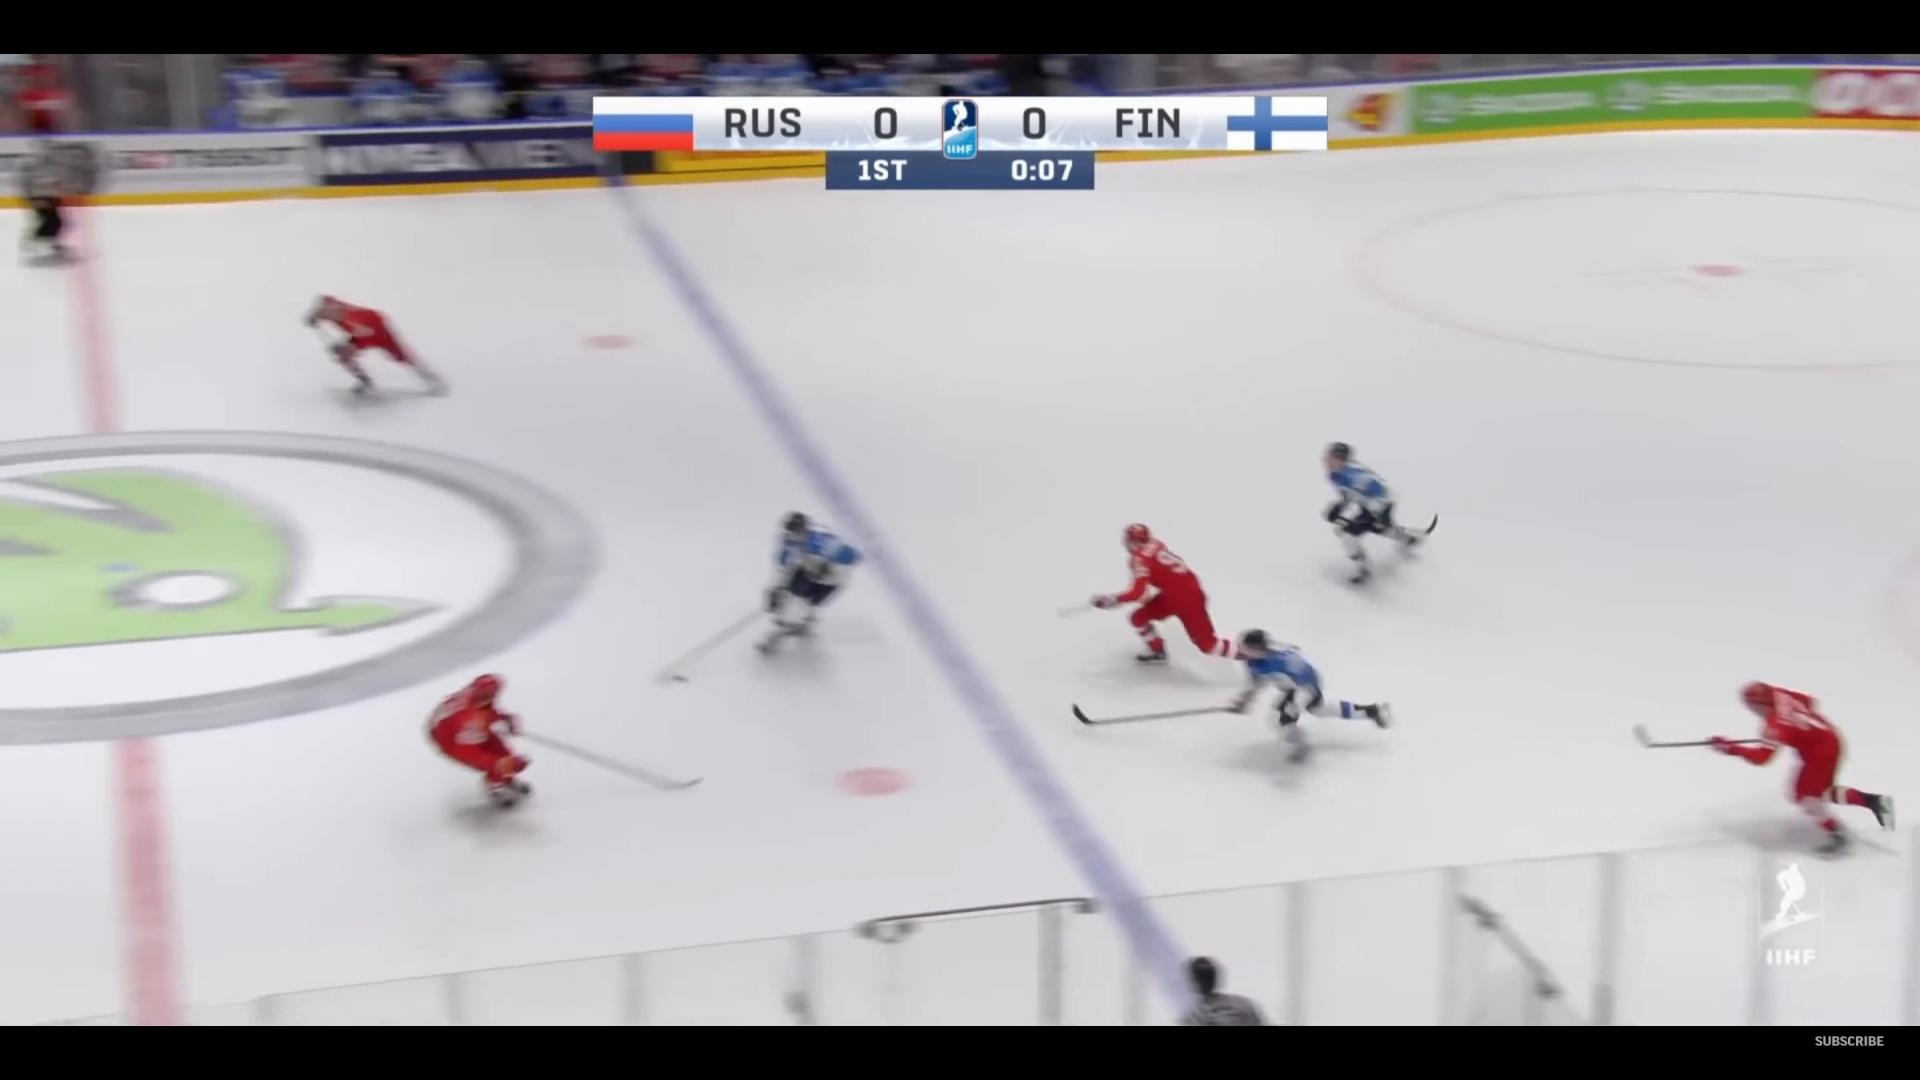puck: (673, 674, 688, 682)
